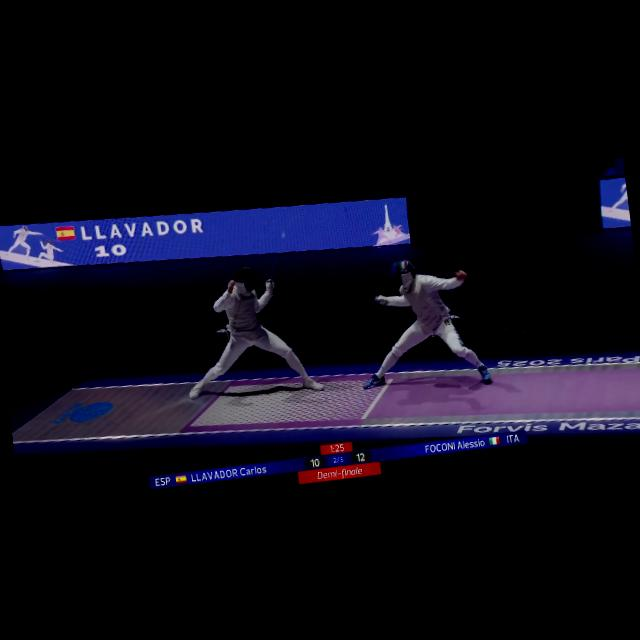blade: (306, 291, 386, 343), (260, 244, 286, 288)
